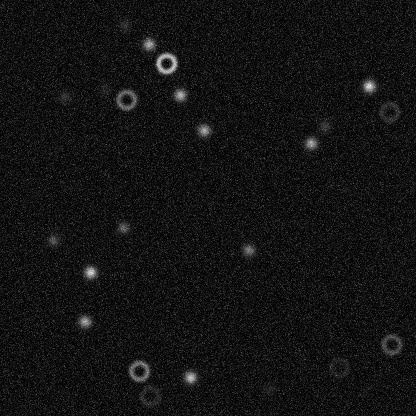Ring: (114, 87, 138, 111), (326, 355, 350, 379), (137, 384, 161, 408), (127, 358, 151, 382), (379, 332, 403, 356), (377, 99, 401, 123), (154, 51, 178, 75)
Spot: (316, 118, 332, 134), (96, 81, 112, 97), (240, 241, 256, 257), (195, 122, 211, 138), (82, 264, 98, 280), (261, 380, 277, 396), (182, 369, 198, 385), (303, 135, 319, 151), (56, 88, 72, 104), (172, 86, 188, 102), (45, 232, 61, 248), (76, 313, 92, 329), (360, 78, 376, 94), (115, 219, 131, 235), (116, 16, 132, 32), (140, 36, 156, 52)
